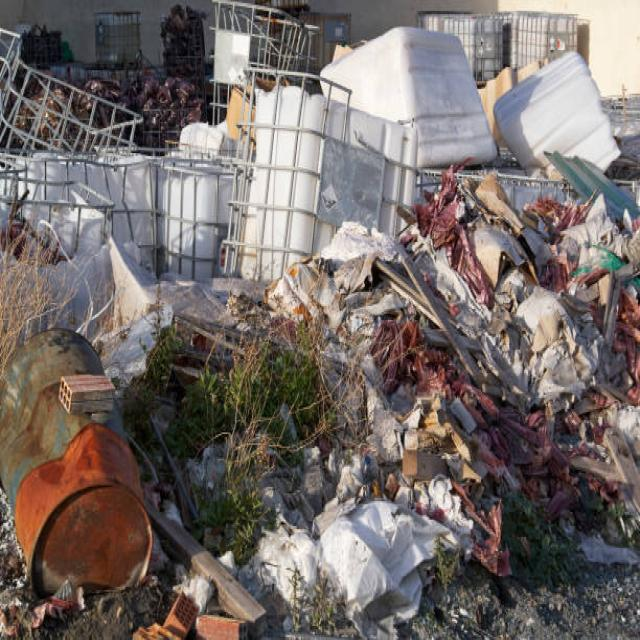plastic: (297, 25, 593, 535)
